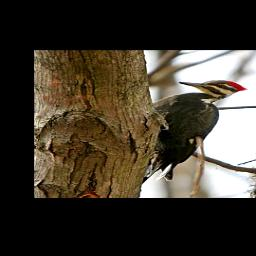Woodpecker: (140, 79, 248, 184)
